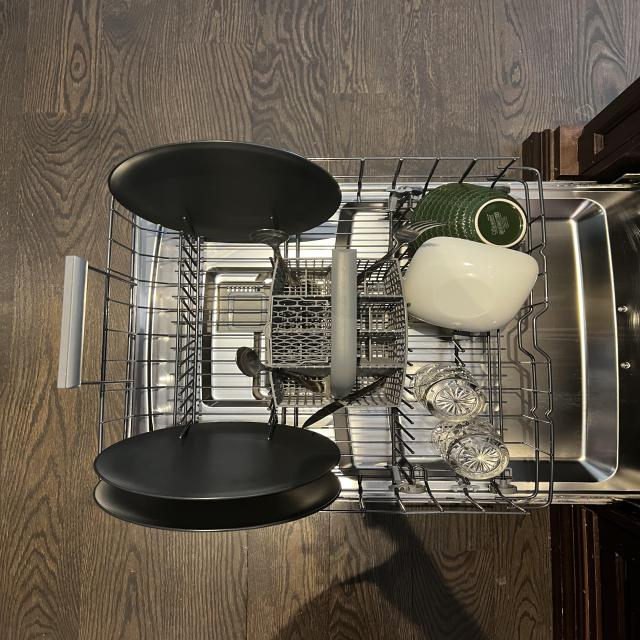Bowl: (402, 235, 541, 336)
Fork: (357, 219, 448, 288)
Glass: (431, 421, 512, 480), (412, 362, 488, 423)
Knife: (299, 378, 389, 428)
Plate: (105, 139, 342, 242), (92, 421, 341, 502)
Spoon: (233, 344, 325, 394), (253, 224, 303, 290)
